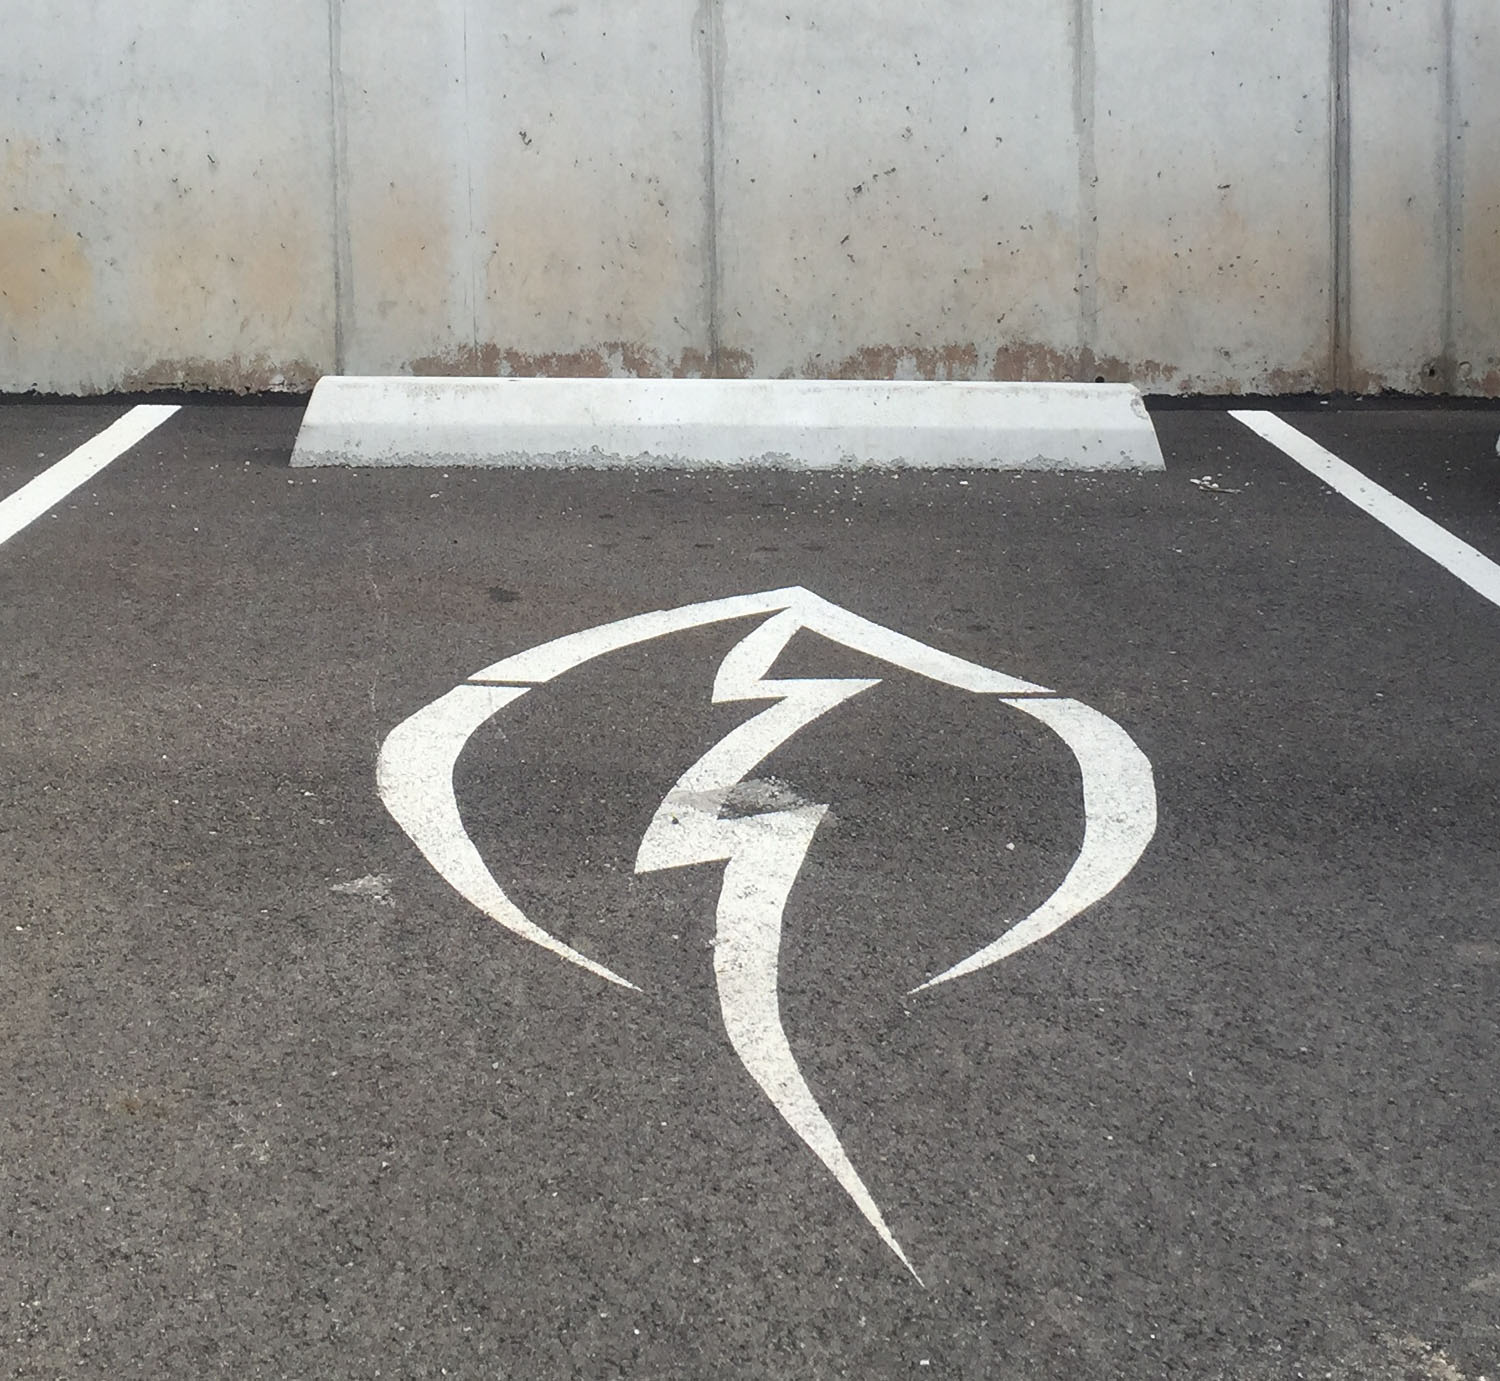empyt_space: (7, 375, 1497, 1381)
